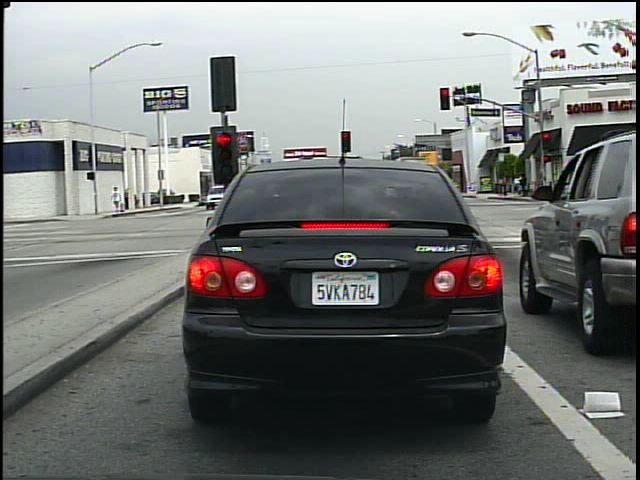person: (111, 184, 125, 215), (516, 171, 530, 197)
